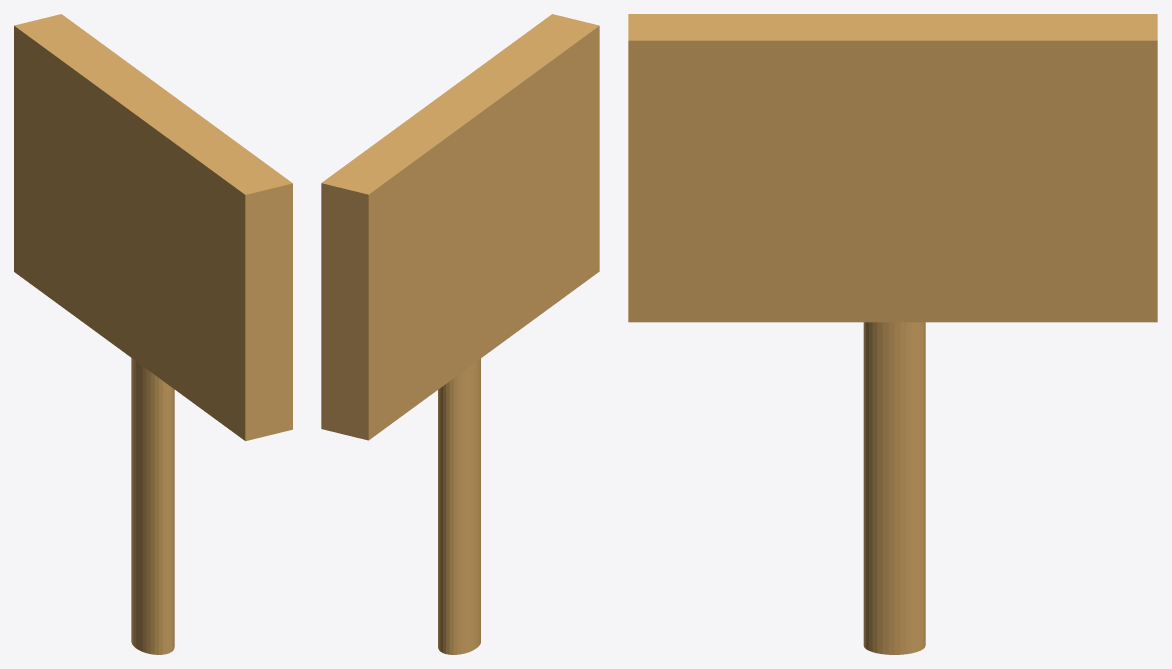
File: schild.fbx
3 renders of one model, left to right at view 1: azimuth 30°, elevation 25°; view 2: azimuth 150°, elevation 25°; view 3: azimuth 270°, elevation 25°, orthographic. The views are drawn at different scales.
Visible parts, largest first — view 1: Cube; view 2: Cube; view 3: Cube.
Boxes of the visible parts, x1=… form: Cube: x1=14, y1=14, x2=292, y2=654; Cube: x1=321, y1=14, x2=599, y2=654; Cube: x1=628, y1=14, x2=1157, y2=654.
Bounding box in the file's own units: 5.93 × 64.41 × 50.
